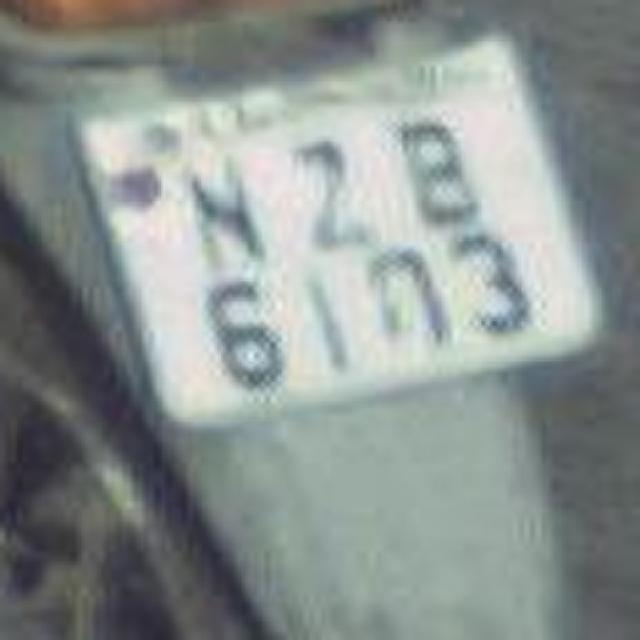1: (291, 248, 364, 372)
3: (432, 225, 552, 340)
6: (192, 268, 300, 388)
B: (380, 112, 512, 240)
C: (272, 132, 376, 240)
W: (172, 145, 280, 280)
